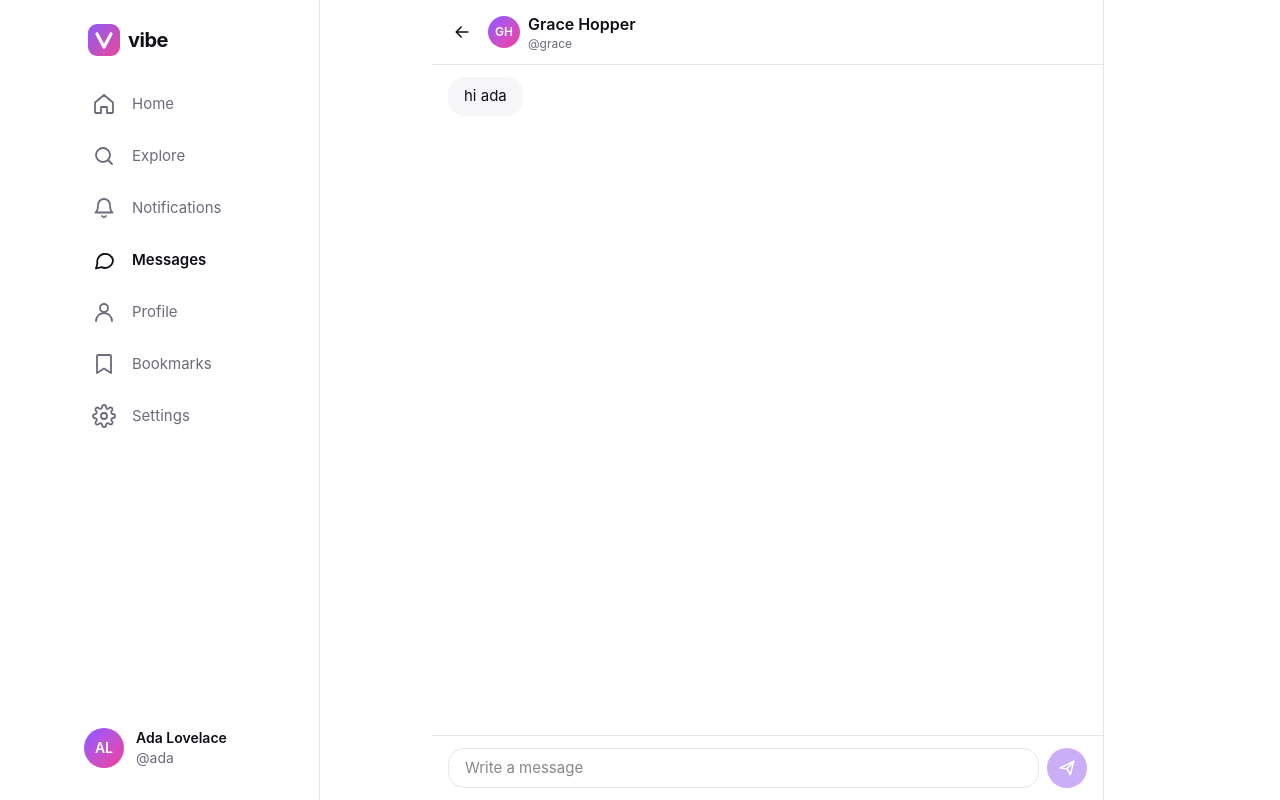
it: a conversation › sends a message, shows live replies and typing, and marks them read
Later steps or results of the test are not shown.
Expected: the text "hi ada" is shown, [448, 77, 523, 116]
Type "hello grace" into the text box labelled "message". click: point(744, 768)
box: [448, 748, 1039, 788]
Then press Enter
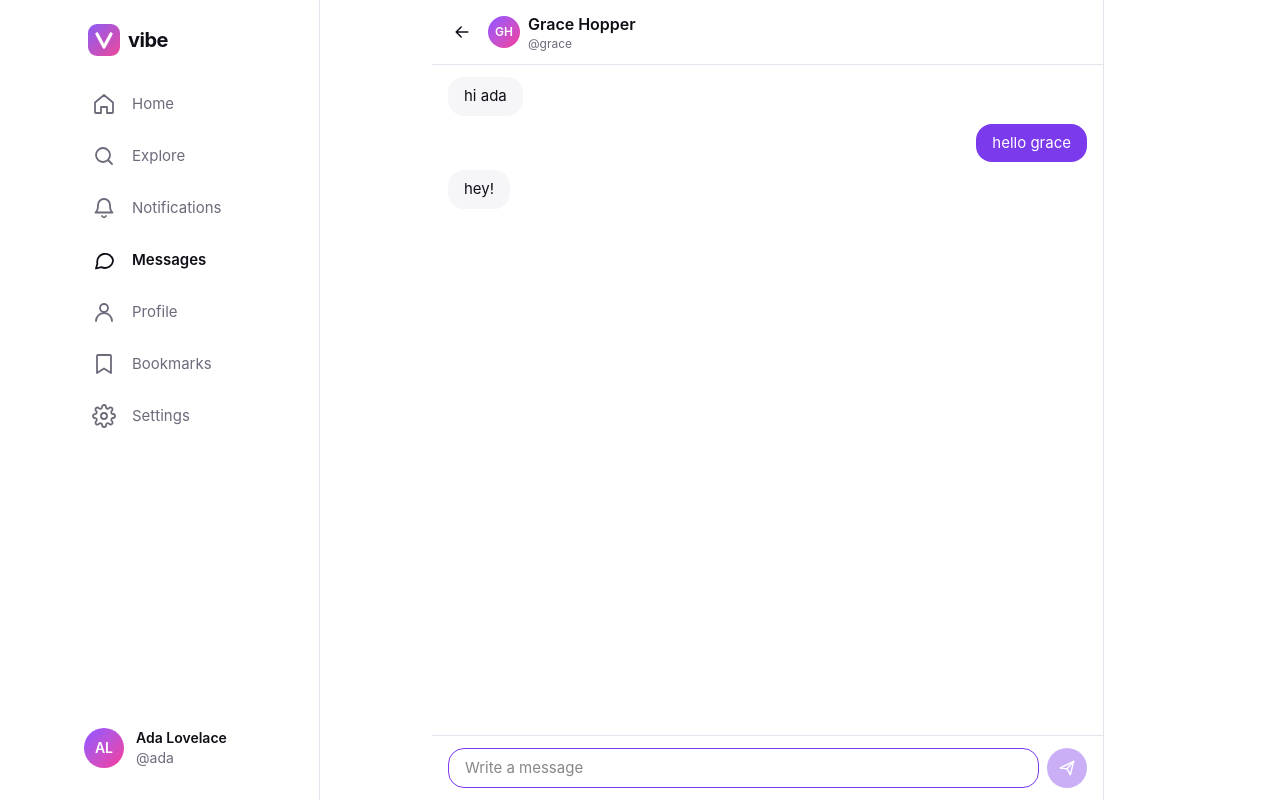
Now the text "hello grace" is shown, box [976, 124, 1087, 162]
Now the text "hey!" is shown, box [448, 170, 510, 208]
